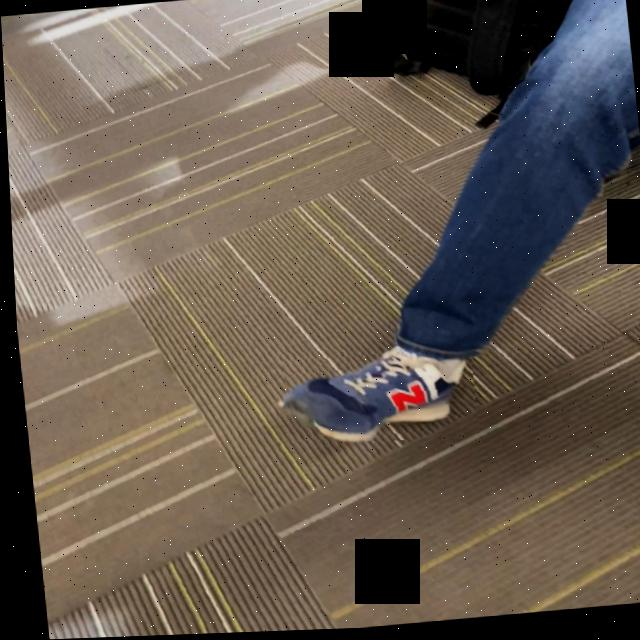shoe: (283, 348, 468, 448)
